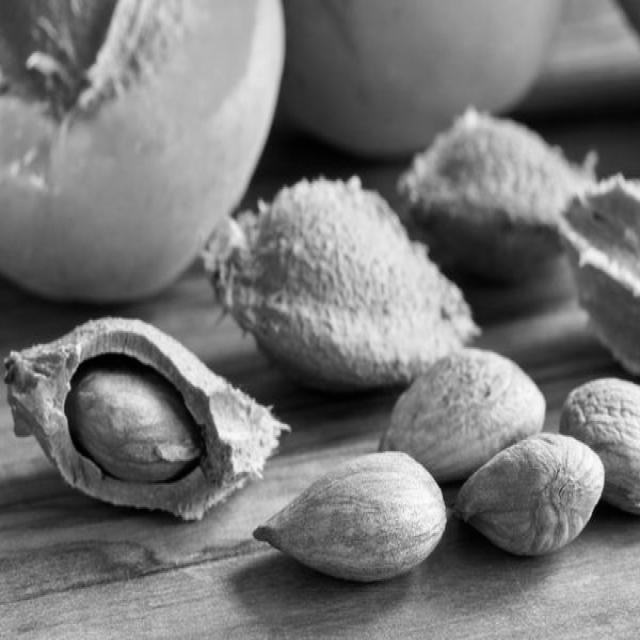Kayisi Cekirdegi: (0, 312, 278, 522), (211, 186, 469, 382), (382, 349, 545, 485), (255, 464, 446, 567), (457, 440, 603, 553)
